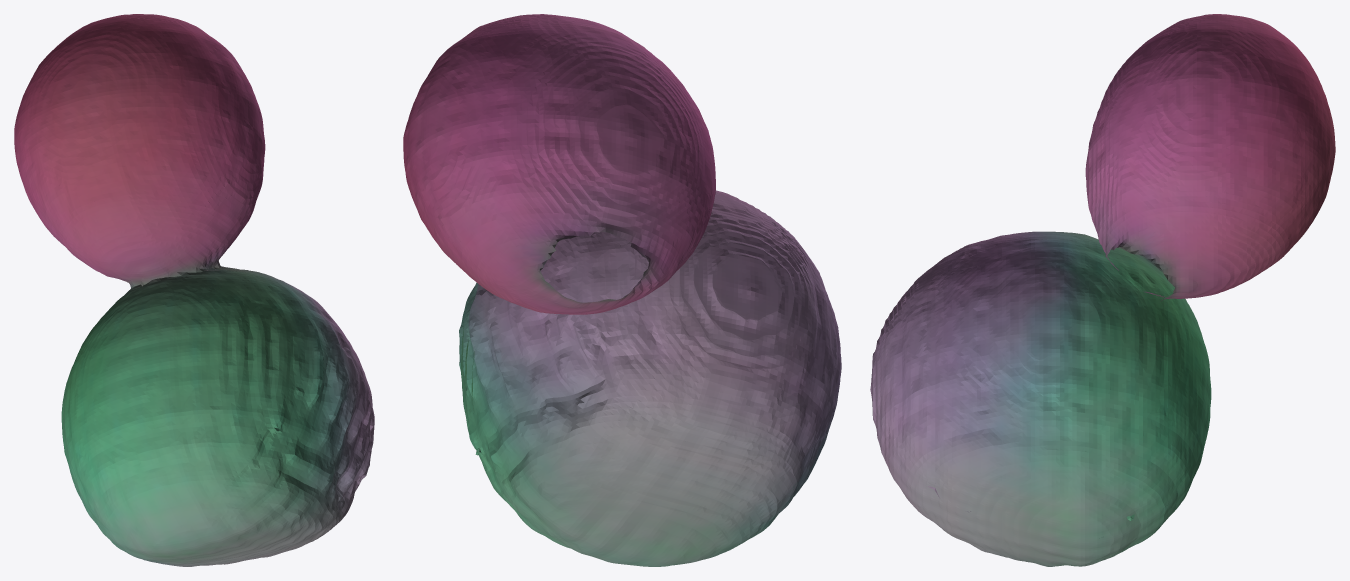
3 views of the same model, side by side, from view 1: azimuth 30°, elevation 25°; view 2: azimuth 150°, elevation 25°; view 3: azimuth 270°, elevation 25° (orthographic). The views are drawn at different scales.
Parts seen in each view (by area): view 1: geometry_0; view 2: geometry_0; view 3: geometry_0.
Boxes of the visible parts, left/top/right/bottom form: geometry_0: left=14, top=14, right=374, bottom=566; geometry_0: left=403, top=14, right=841, bottom=566; geometry_0: left=870, top=14, right=1335, bottom=566.
Bounding box in the file's own units: 0.9686 × 1.6 × 1.31.
